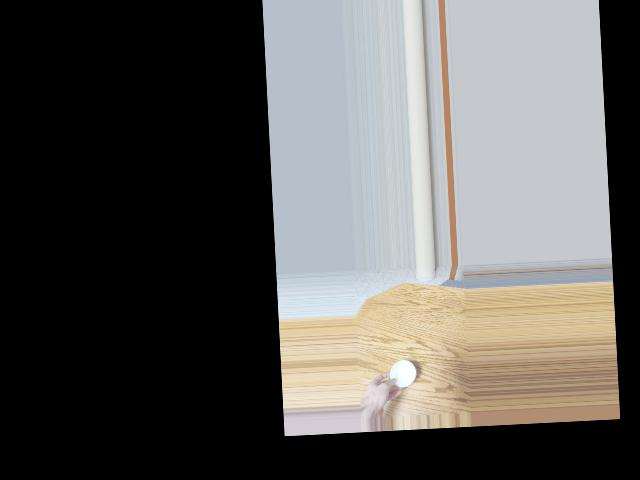cotage: (388, 359, 416, 389)
